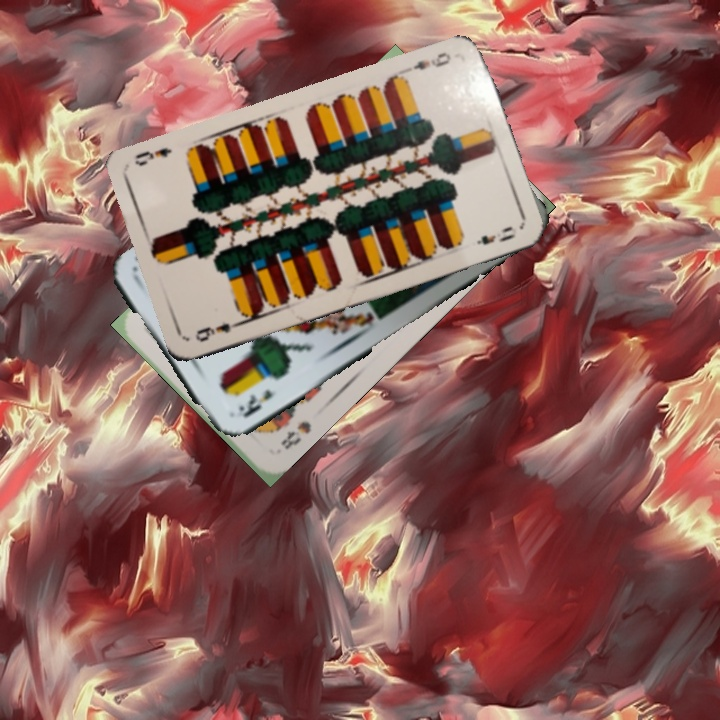E9: (191, 317, 245, 345), (403, 48, 454, 75)
EK: (234, 385, 275, 420)
S8: (276, 417, 314, 453)
